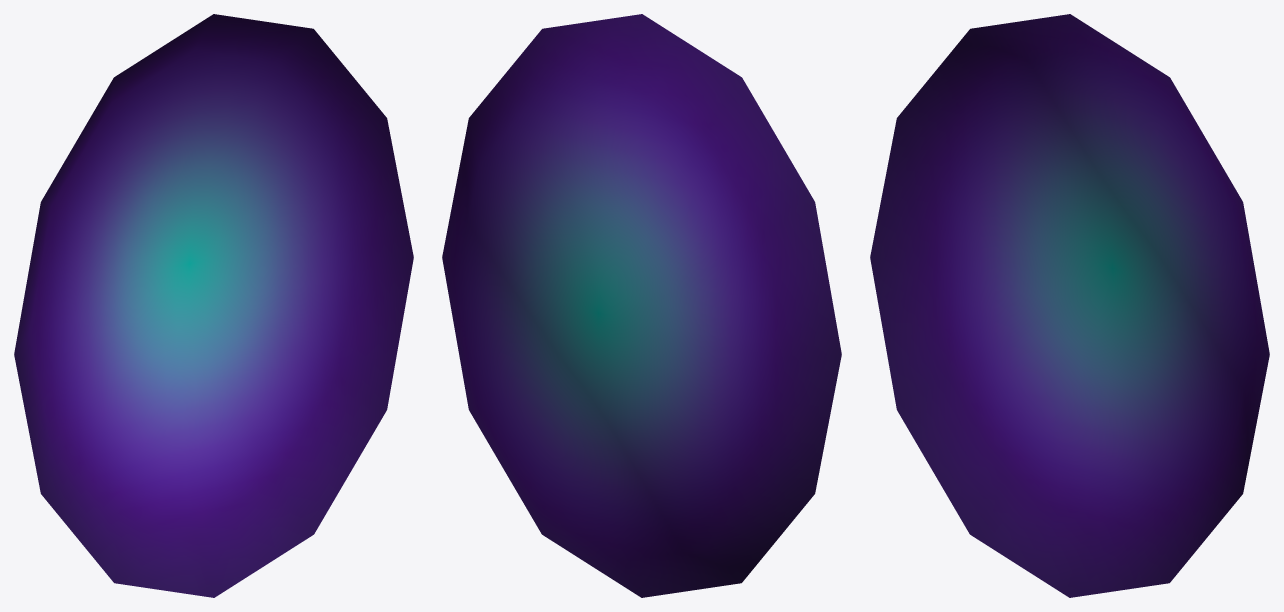
Rendered from x_parkour_teleport_exit.fbx.
3 views of the same model, side by side, from view 1: azimuth 30°, elevation 25°; view 2: azimuth 150°, elevation 25°; view 3: azimuth 330°, elevation 25° (orthographic).
Parts seen in each view (by area): view 1: x_parkour_teleport_exit; view 2: x_parkour_teleport_exit; view 3: x_parkour_teleport_exit.
Part boxes in pixels (<box>): x_parkour_teleport_exit: <box>14,14,413,597</box>; x_parkour_teleport_exit: <box>442,14,841,597</box>; x_parkour_teleport_exit: <box>870,14,1269,597</box>.
Size of the model in its own units: 2.24 by 3.13 by 0.348.
